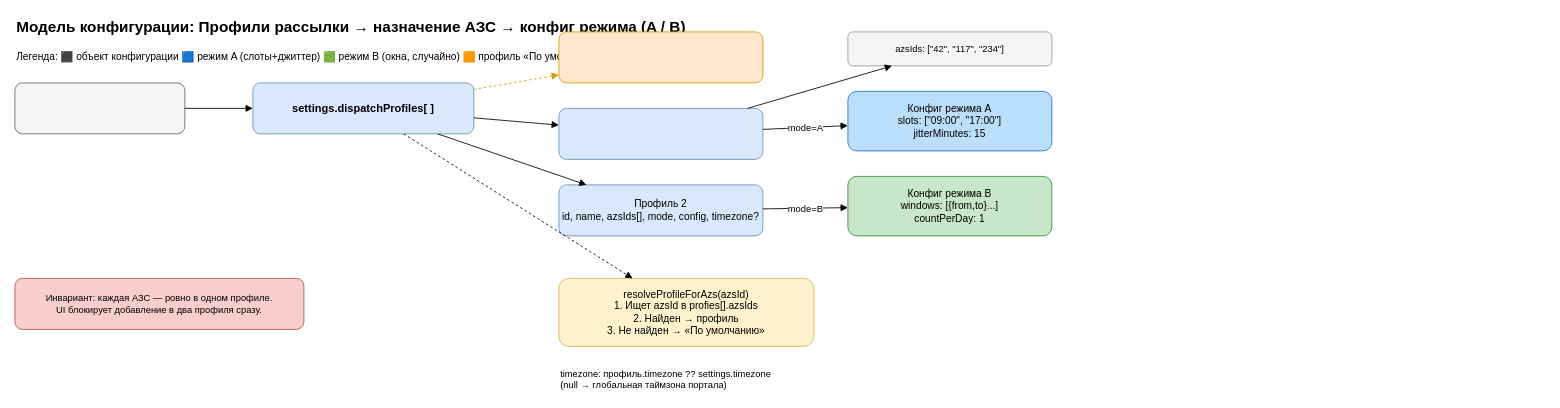
Image size: 1560x408. Some labels were removed from this diagram. The shapes that lost their labels are listed below. From the top down, each one's centre as x and y in pixels, then its label:
(x=660, y=57): Профиль «По умолчанию» (из settings.report.*)
(x=99, y=108): settings (JSON)
(x=660, y=133): Профиль 1 id, name, azsIds[], mode, config, timezone?
